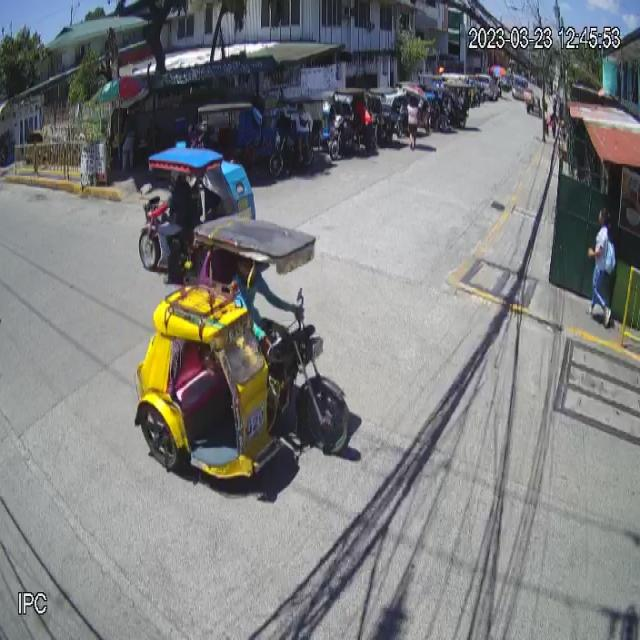Tricycle: (136, 212, 353, 487)
